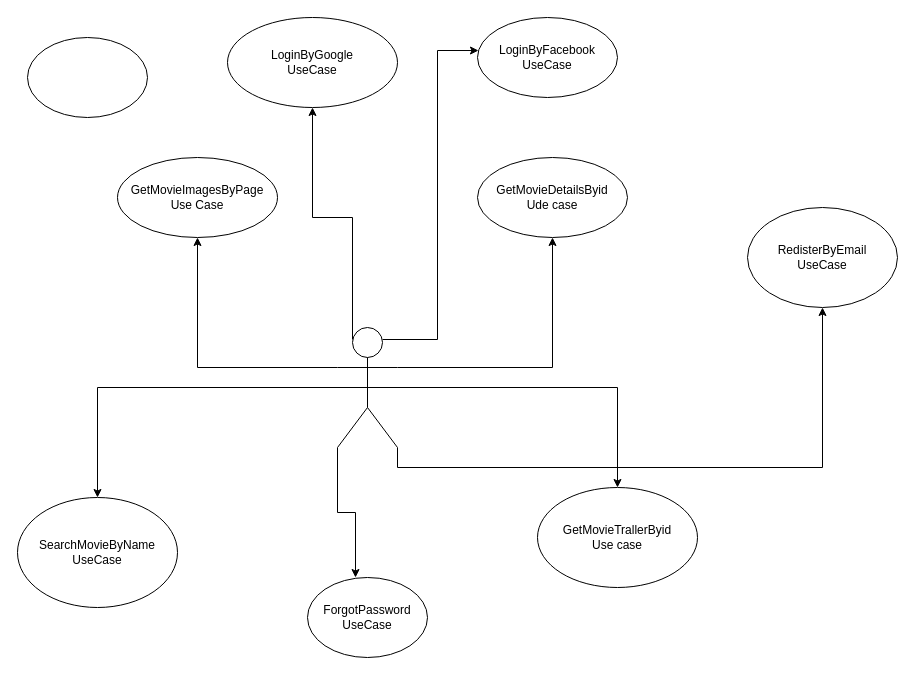
Some shapes in this 915 by 675 pixel diagram are drawn without their labels. Each missing label, with the centre of its shape:
"Actor" belongs at point 367,387.
"LoginByEmail UseCase" belongs at point 87,77.
